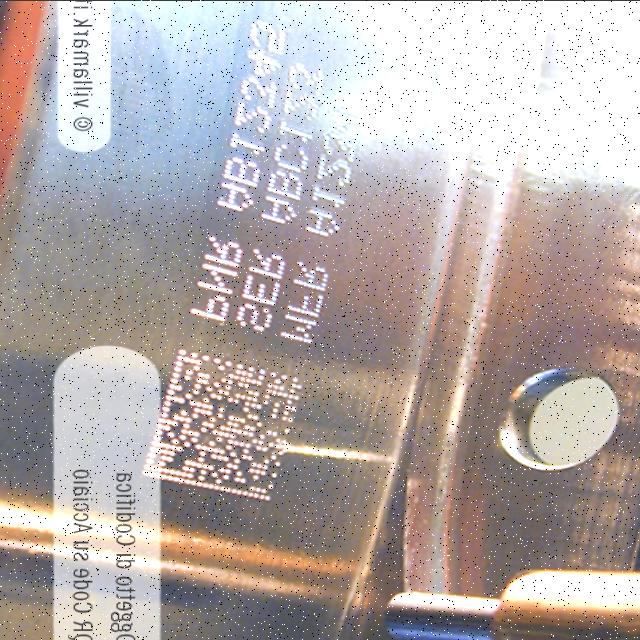datamatrix: (134, 343, 311, 512)
